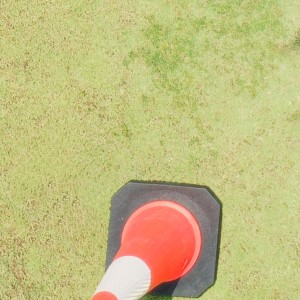traffic cone: (91, 179, 223, 300)
